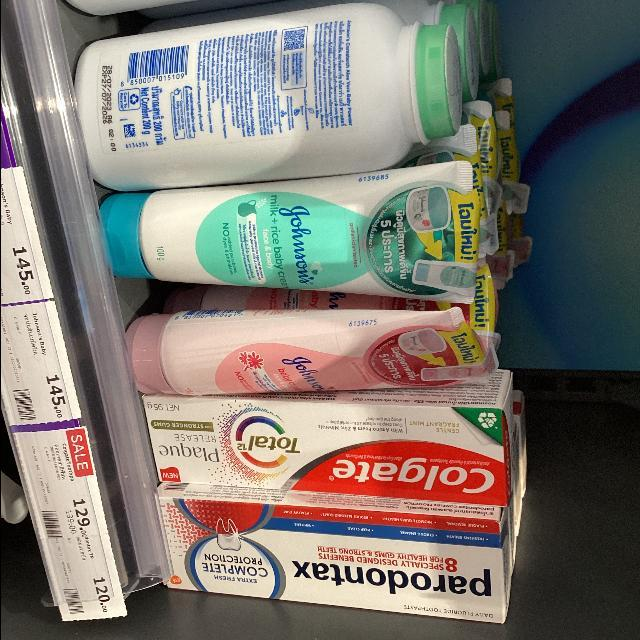Squeeze Tube: (82, 185, 526, 409), (91, 163, 487, 299), (127, 288, 503, 407)
